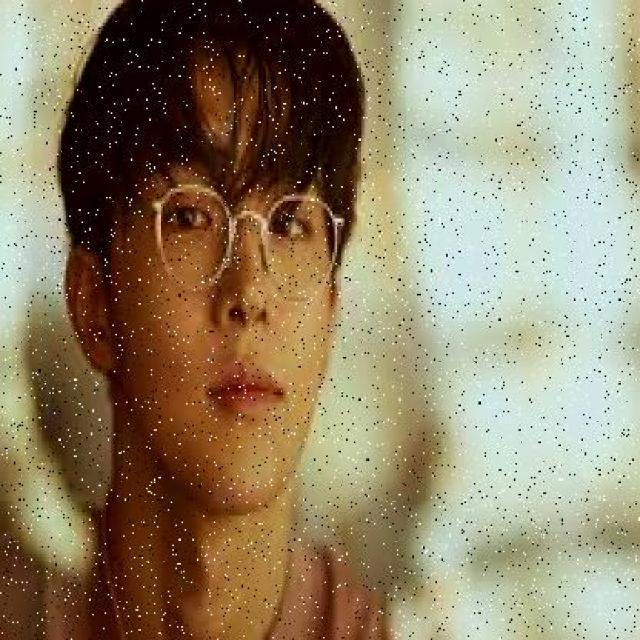mask: (140, 172, 352, 306)
